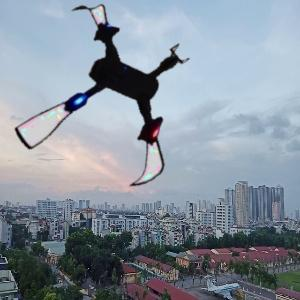drone: (7, 3, 203, 199)
